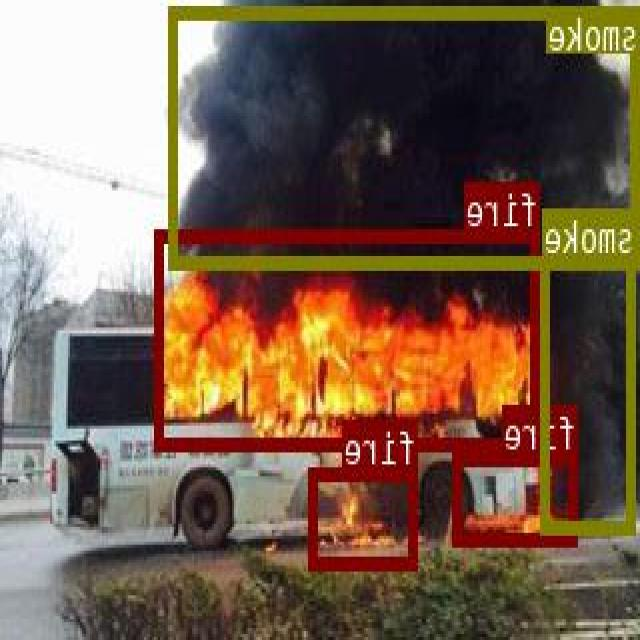fire: (156, 228, 542, 448), (455, 451, 579, 542), (311, 465, 419, 567)
smoke: (170, 6, 640, 268), (542, 255, 636, 531)
